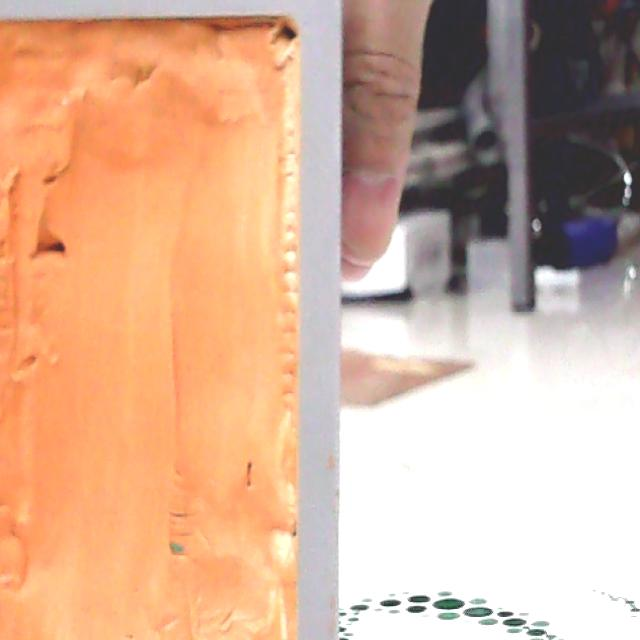block: (0, 7, 348, 628)
